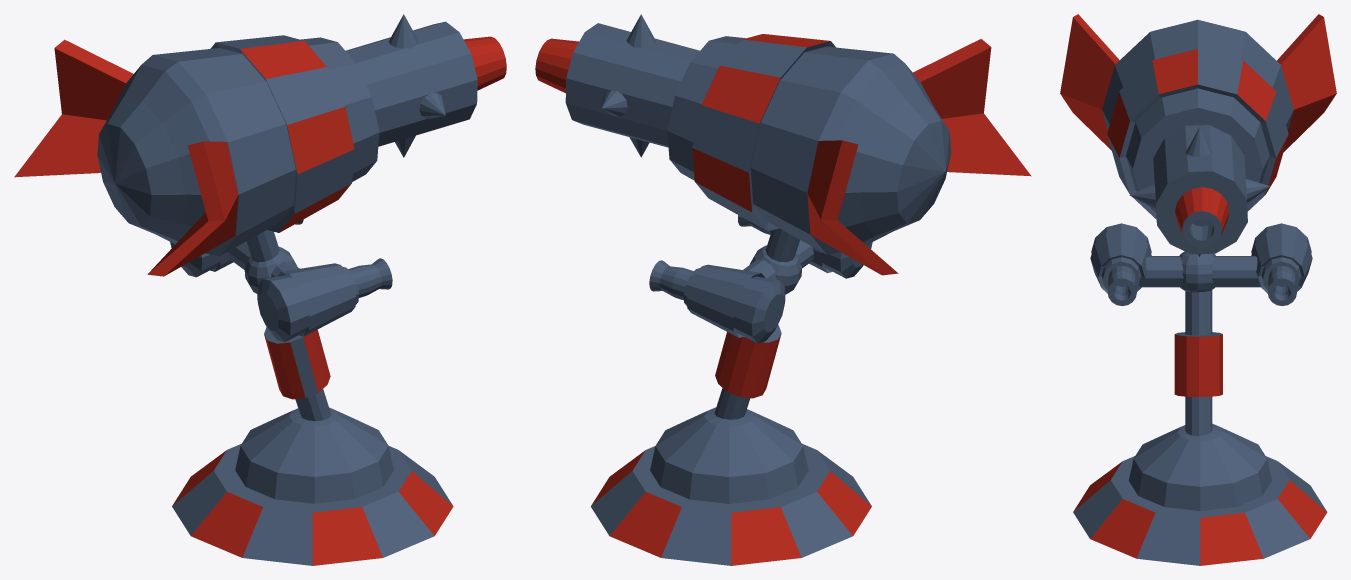
Rendered from LaserShooter.fbx.
The picture shows the model from 3 angles, left to right: view 1: azimuth 30°, elevation 25°; view 2: azimuth 150°, elevation 25°; view 3: azimuth 270°, elevation 25°; orthographic projection. The views are drawn at different scales.
Visible parts, largest first — view 1: senjata 2; view 2: senjata 2; view 3: senjata 2.
Boxes of the visible parts, x1,y1,x2,y2 form: senjata 2: (14, 14, 506, 565); senjata 2: (535, 14, 1031, 565); senjata 2: (1060, 14, 1336, 565).
Bounding box in the file's own units: 240 × 263 × 153.
